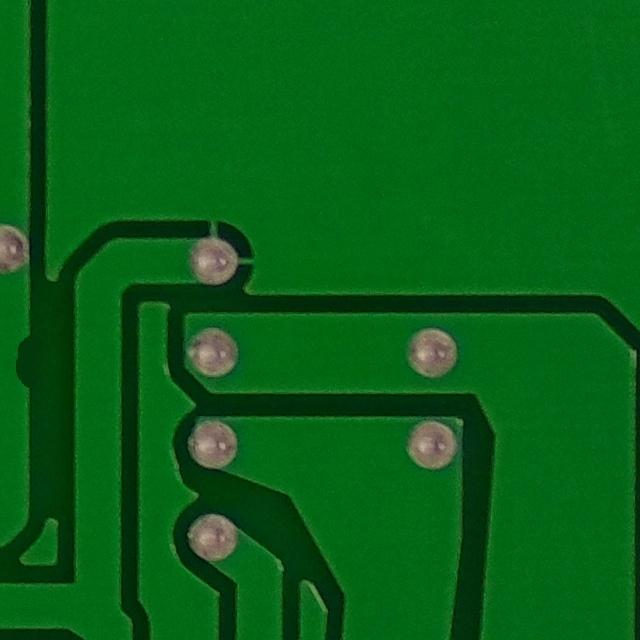mouse_bite: (0, 322, 48, 395)
